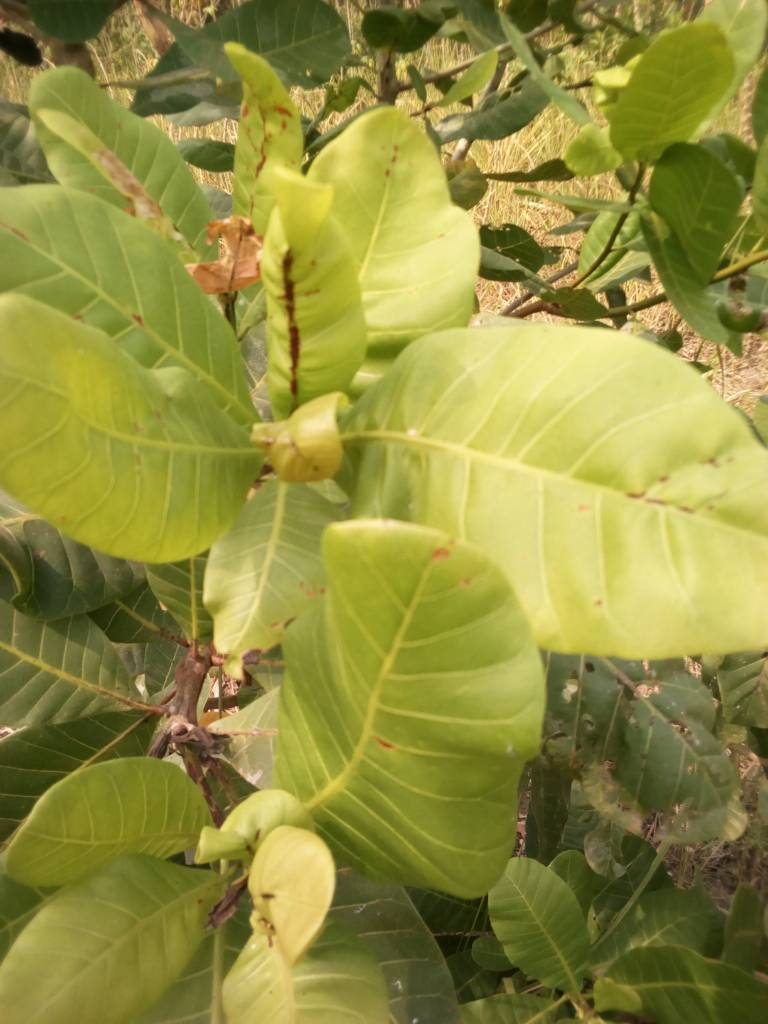Anthracnose: (371, 325, 768, 650), (380, 325, 768, 650), (302, 516, 549, 883), (1, 185, 274, 421), (33, 102, 204, 261), (266, 177, 363, 411), (227, 44, 308, 224)
